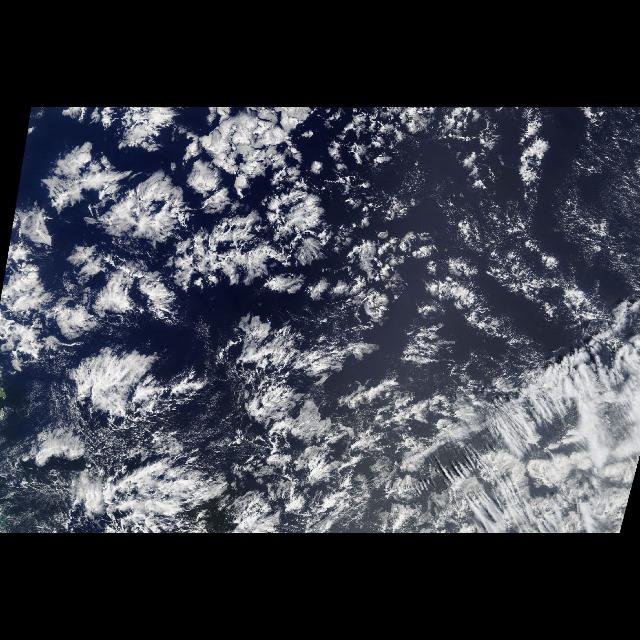Flower: (2, 110, 394, 410)
Gravel: (414, 136, 640, 360)
